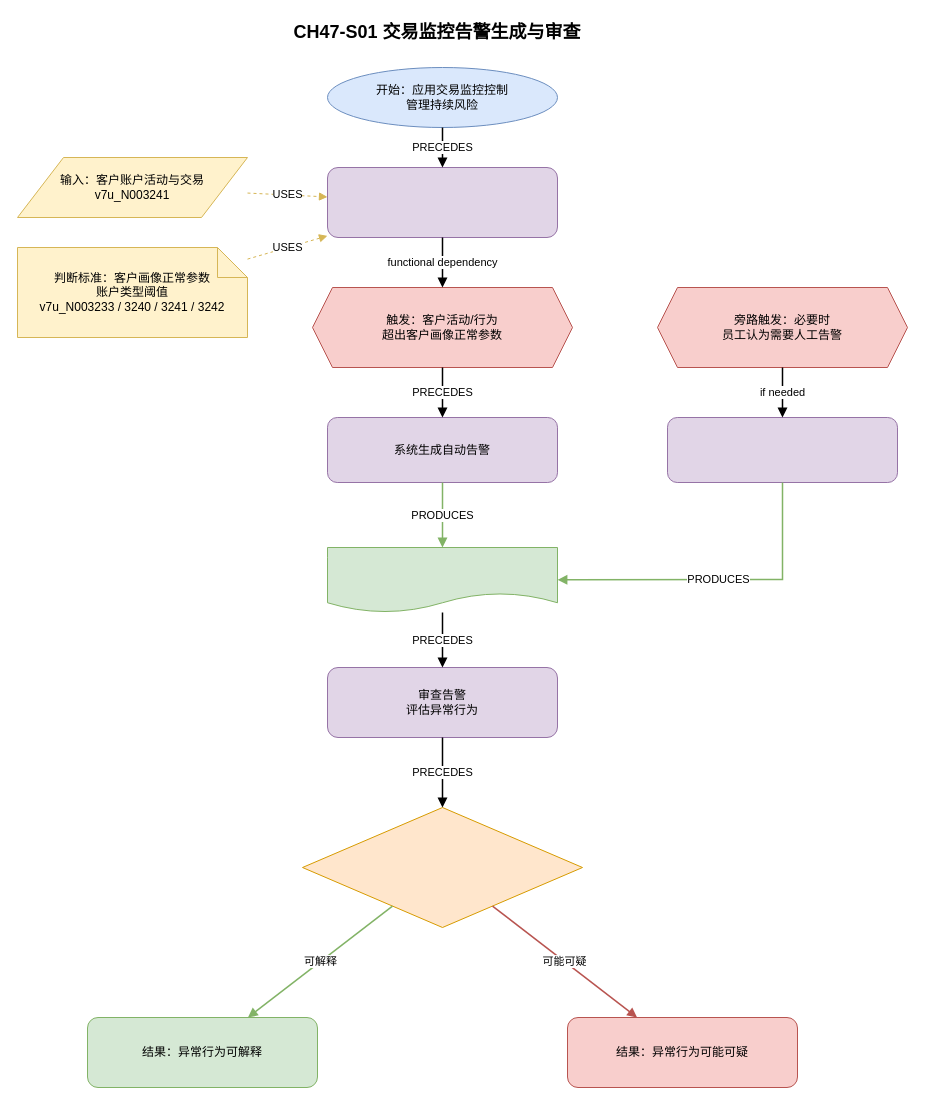
Image size: 925x1105. Some labels were removed from this diagram. Each missing label, with the centre of its shape:
"产出：交易监控告警" goes at point (442, 579).
"判断：异常行为能否解释？ 还是可能可疑？" goes at point (442, 867).
"员工发起人工告警" goes at point (782, 449).
"监控客户账户活动 并用阈值评估交易" goes at point (442, 202).
